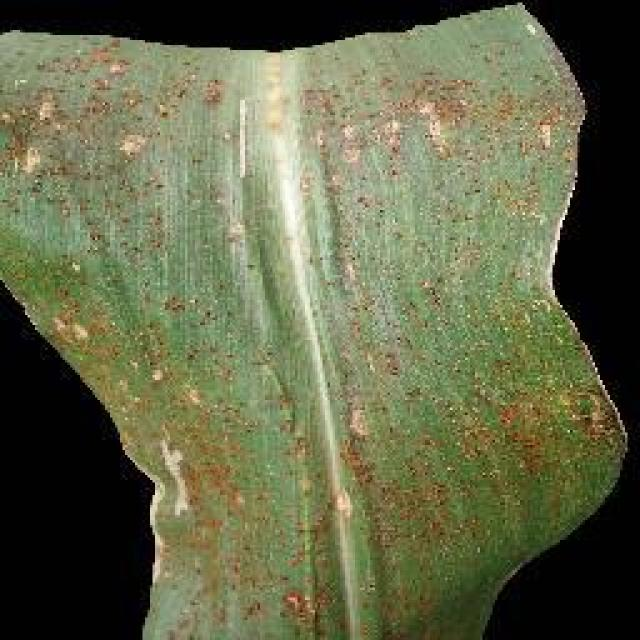Corn Common Rust: (63, 37, 540, 570)
